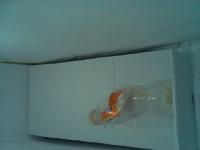bottle: (73, 0, 170, 24)
